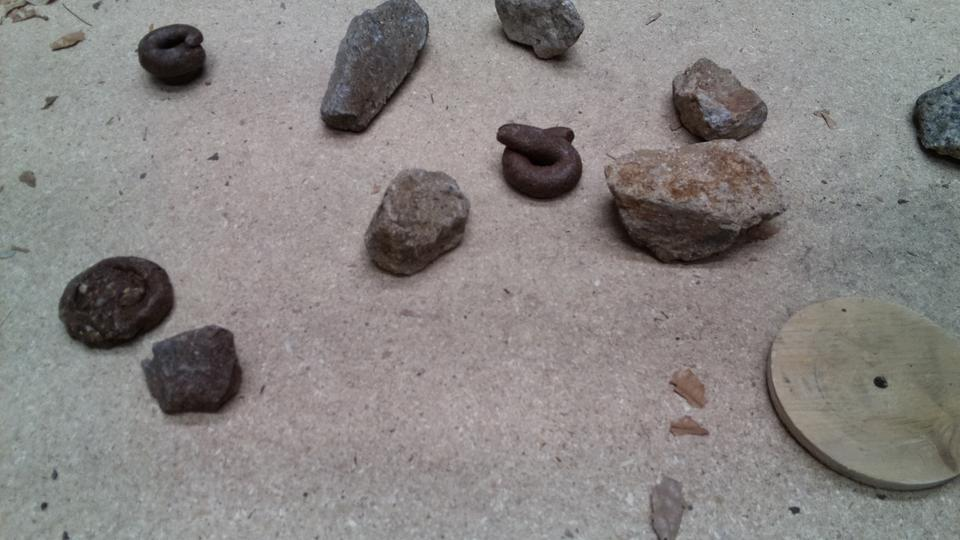poop: (308, 129, 389, 205), (312, 62, 398, 131), (541, 1, 636, 54)
